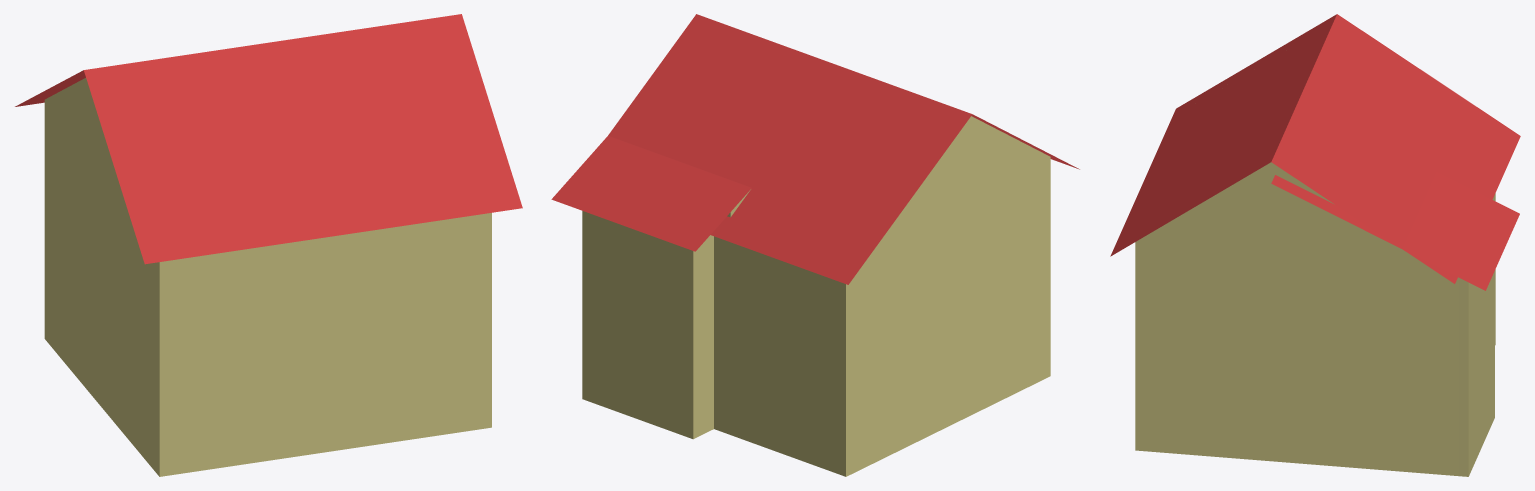
3 renders of one model, left to right at view 1: azimuth 30°, elevation 25°; view 2: azimuth 150°, elevation 25°; view 3: azimuth 270°, elevation 25°, orthographic. The views are drawn at different scales.
Size of the model in its own units: 14.73 by 14.36 by 11.9.
